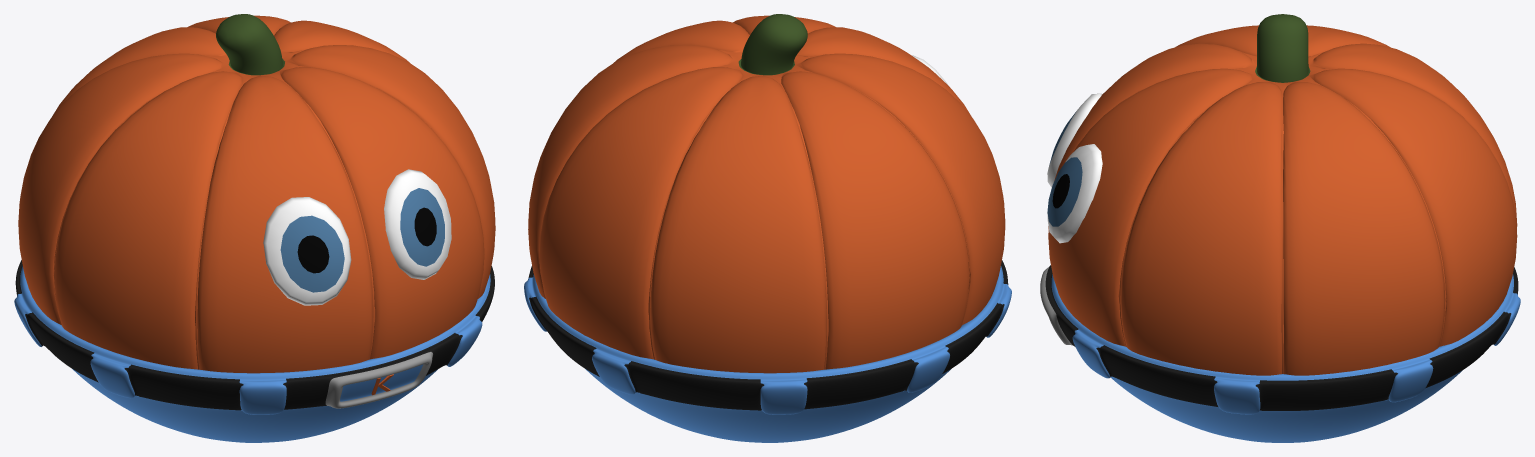
File: Pumpkin.fbx
The picture shows the model from 3 angles, left to right: view 1: azimuth 30°, elevation 25°; view 2: azimuth 150°, elevation 25°; view 3: azimuth 270°, elevation 25°; orthographic projection.
Visible parts, largest first — view 1: Pumpkin-body, Pants, Eyes, Pumpkin-top; view 2: Pumpkin-body, Pants, Pumpkin-top; view 3: Pumpkin-body, Pants, Eyes, Pumpkin-top.
Part boxes in pixels (left/top/right/bottom): Pumpkin-body: left=18, top=15, right=495, bottom=373; Pants: left=14, top=260, right=494, bottom=442; Eyes: left=263, top=169, right=451, bottom=305; Pumpkin-top: left=216, top=14, right=282, bottom=74; Pumpkin-body: left=528, top=15, right=1005, bottom=373; Pants: left=524, top=260, right=1011, bottom=442; Pumpkin-top: left=741, top=14, right=807, bottom=74; Pumpkin-body: left=1048, top=25, right=1517, bottom=375; Pants: left=1040, top=265, right=1520, bottom=442; Eyes: left=1047, top=93, right=1102, bottom=243; Pumpkin-top: left=1257, top=14, right=1308, bottom=82.
Size of the model in its own units: 123 by 113 by 124.
